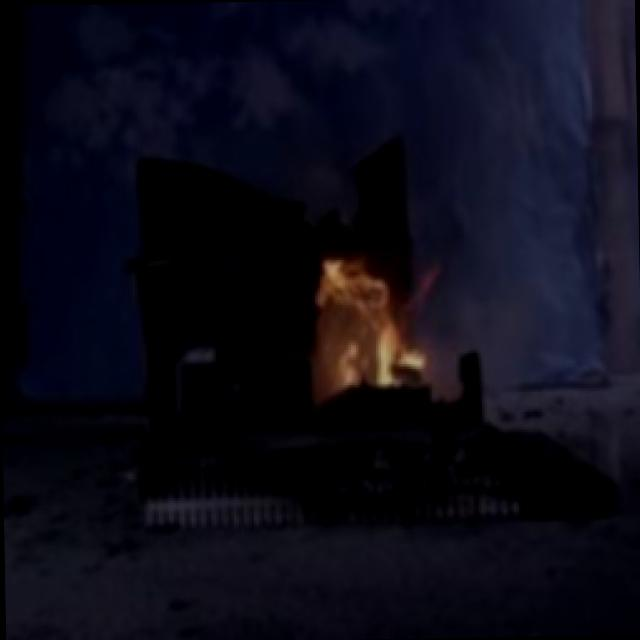fire: (305, 215, 450, 415)
